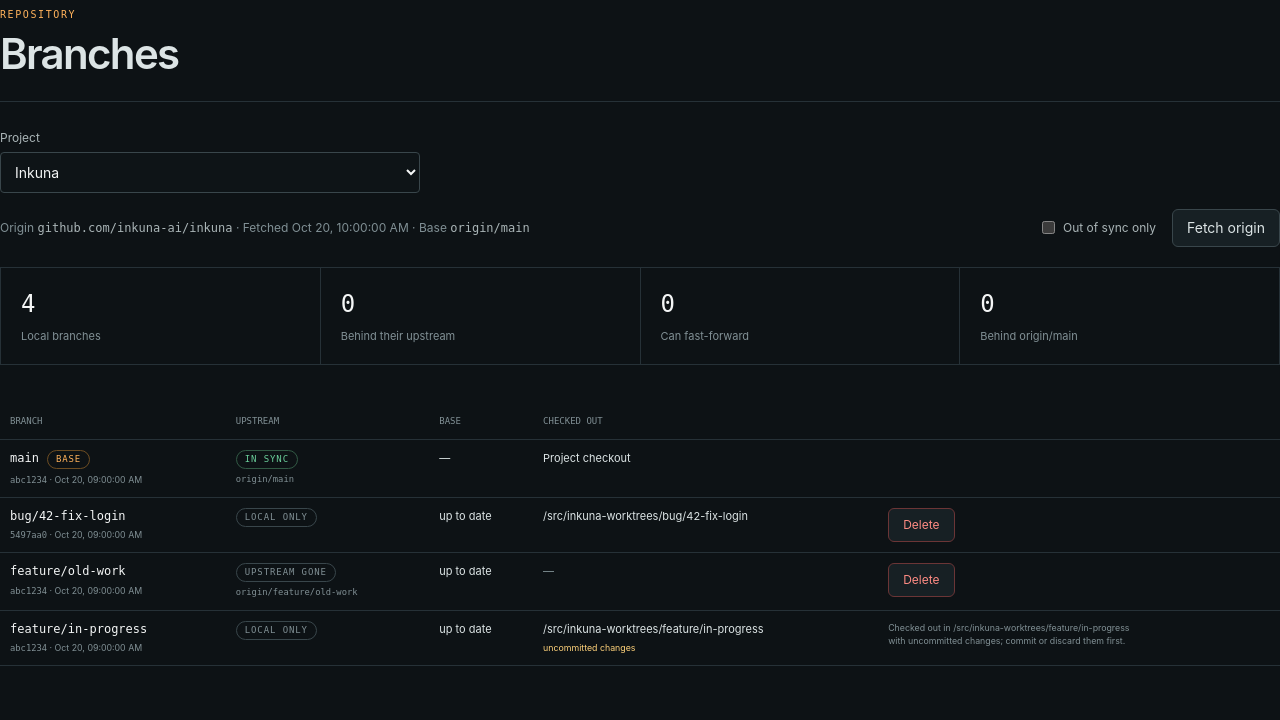
Test: BranchesView › deletes a branch without an upstream after confirming what it drops
Expected: the text "commit or discard them first" is shown, [888,622,1129,646]
Expected: the button with aria-label "Delete feature/old-work" is enabled, [888,563,954,597]
Click the button with aria-label "Delete bug/42-fix-login".
click(921, 525)  # box [888,508,954,542]
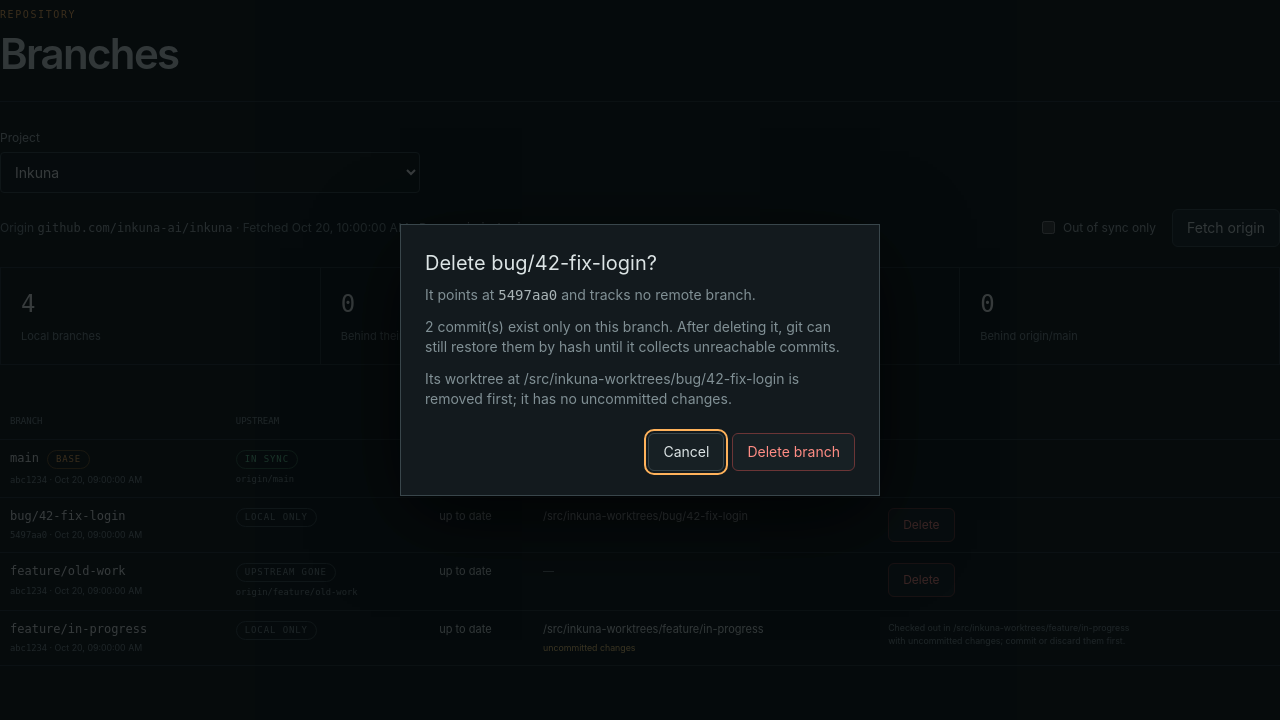
Now the dialog "Delete bug/42-fix-login?" shows "2 commit(s) exist only on this branch", box [425,318,840,355]
Now the dialog "Delete bug/42-fix-login?" shows "Its worktree at /src/inkuna-worktrees/bug/42-fix-login is removed first", box [400,224,880,496]
Click the button "Delete branch".
click(794, 452)  # box [732,433,855,471]
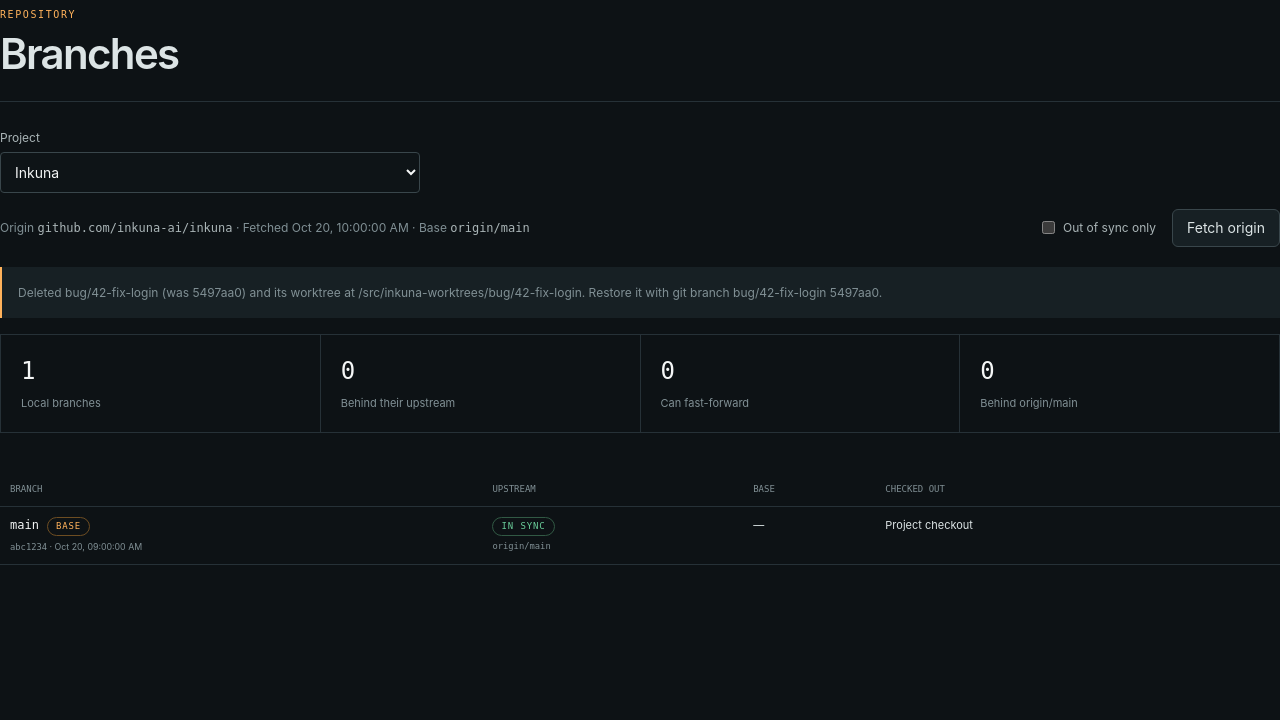
Now the text "Deleted bug/42-fix-login (was 5497aa0) and its worktree at /src/inkuna-worktrees/bug/42-fix-login. Restore it with git b" is shown, box [18,284,882,300]
Now the dialog is gone
